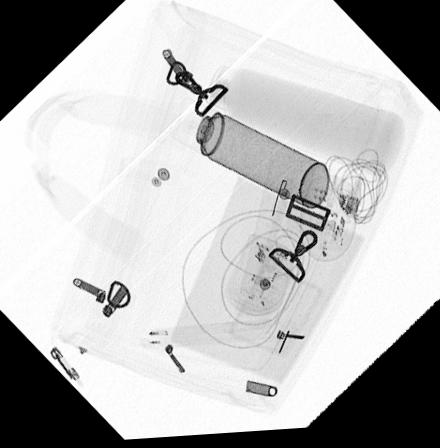Sprayer: (168, 95, 331, 213)
